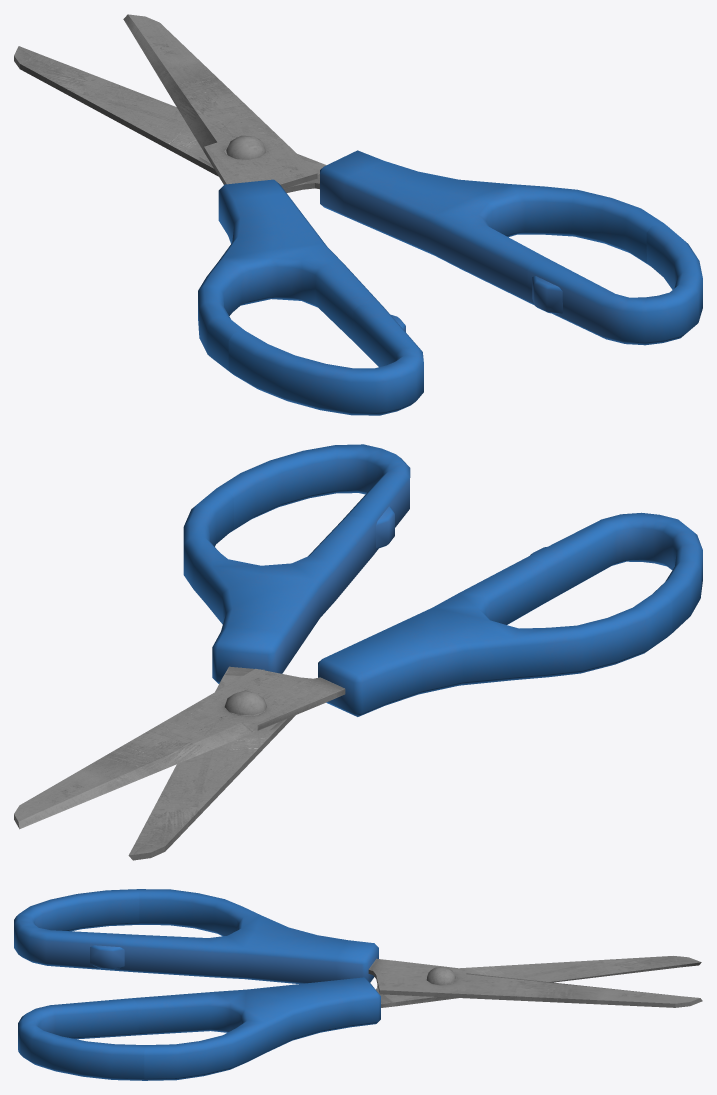
The model's file is silhouette-scissors.glb.
3 renders of one model, top to bottom at view 1: azimuth 30°, elevation 25°; view 2: azimuth 150°, elevation 25°; view 3: azimuth 270°, elevation 25°, orthographic. The views are drawn at different scales.
Parts seen in each view (by area): view 1: scissor_L_1, scissor_R_2, rivet_0; view 2: scissor_R_2, scissor_L_1, rivet_0; view 3: scissor_R_2, scissor_L_1, rivet_0.
Part boxes in pixels (x1=…): scissor_L_1: x1=14, y1=46, x2=702, y2=345; scissor_R_2: x1=123, y1=14, x2=423, y2=415; rivet_0: x1=226, y1=135, x2=265, y2=159; scissor_R_2: x1=14, y1=512, x2=702, y2=829; scissor_L_1: x1=128, y1=444, x2=410, y2=860; rivet_0: x1=224, y1=690, x2=266, y2=715; scissor_R_2: x1=14, y1=889, x2=702, y2=1007; scissor_L_1: x1=18, y1=956, x2=701, y2=1080; rivet_0: x1=426, y1=966, x2=455, y2=985.
Size of the model in its own units: 0.0851 by 0.00779 by 0.1498.
Materials: 1 (1 with a texture image).
